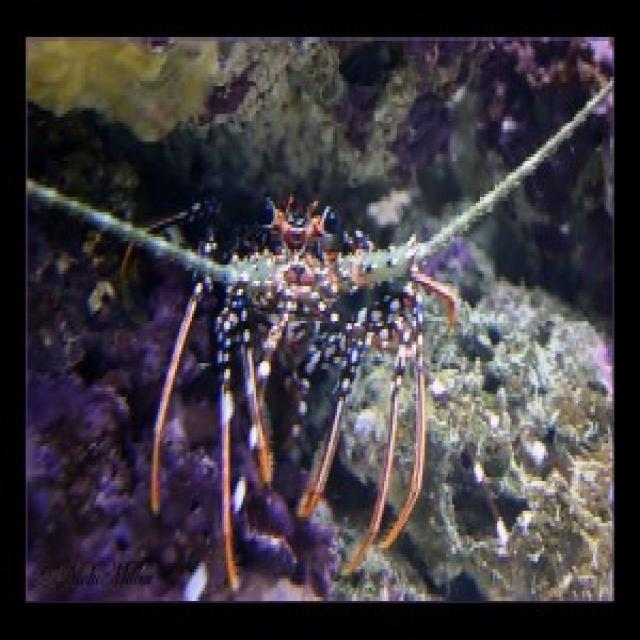lobsters: (34, 132, 588, 578)
